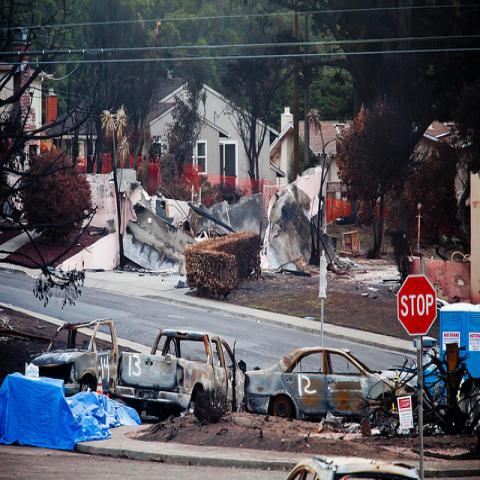car: (244, 346, 418, 426), (114, 330, 244, 422), (30, 318, 121, 397)
truck: (117, 331, 245, 421), (32, 318, 123, 397)
